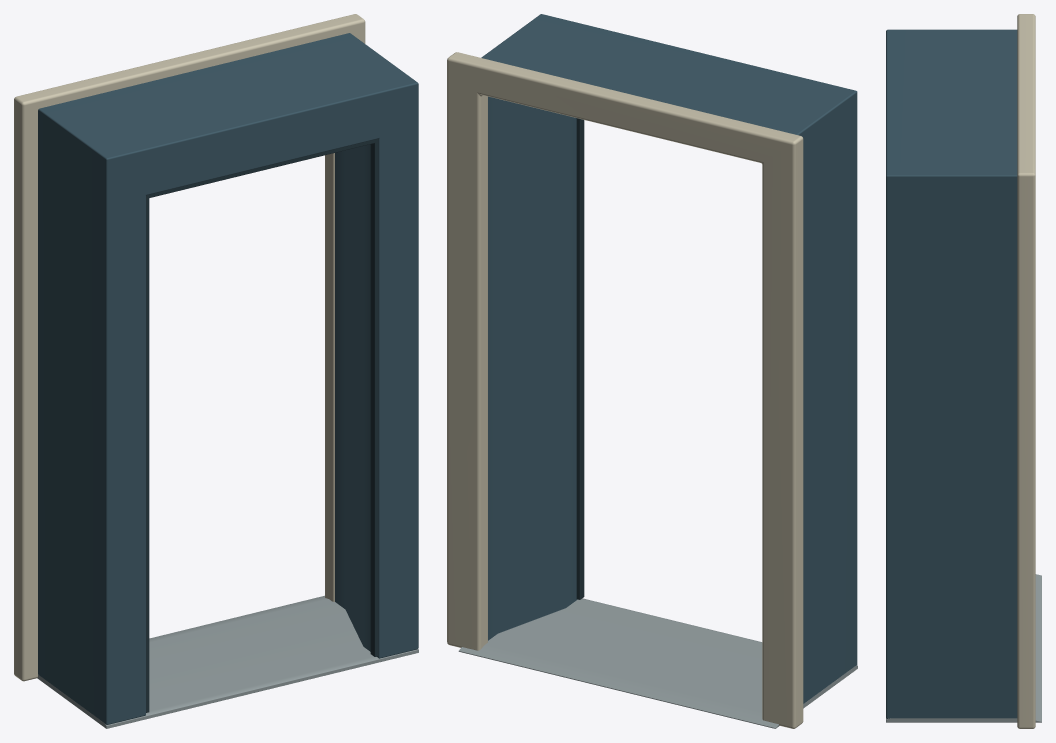
Rendered from city_shop_fittings_03_single.glb.
The picture shows the model from 3 angles, left to right: view 1: azimuth 30°, elevation 25°; view 2: azimuth 150°, elevation 25°; view 3: azimuth 270°, elevation 25°; orthographic projection. The views are drawn at different scales.
Visible parts, largest first — view 1: single_recessed_reveal, single_rounded_face_casing, single_sloped_threshold, single_rear_stop; view 2: single_recessed_reveal, single_rounded_face_casing, single_sloped_threshold, single_rear_stop; view 3: single_recessed_reveal, single_rounded_face_casing, single_sloped_threshold.
Part boxes in pixels (<box>): single_recessed_reveal: <box>38,33,418,724</box>; single_rounded_face_casing: <box>14,14,365,681</box>; single_sloped_threshold: <box>37,595,418,728</box>; single_rear_stop: <box>146,139,378,712</box>; single_recessed_reveal: <box>481,14,857,703</box>; single_rounded_face_casing: <box>447,52,803,728</box>; single_sloped_threshold: <box>458,598,857,728</box>; single_rear_stop: <box>576,118,584,599</box>; single_recessed_reveal: <box>886,29,1017,718</box>; single_rounded_face_casing: <box>1017,14,1035,728</box>; single_sloped_threshold: <box>886,574,1041,722</box>.
Bounding box in the file's own units: 1.54 × 2.48 × 0.63.
